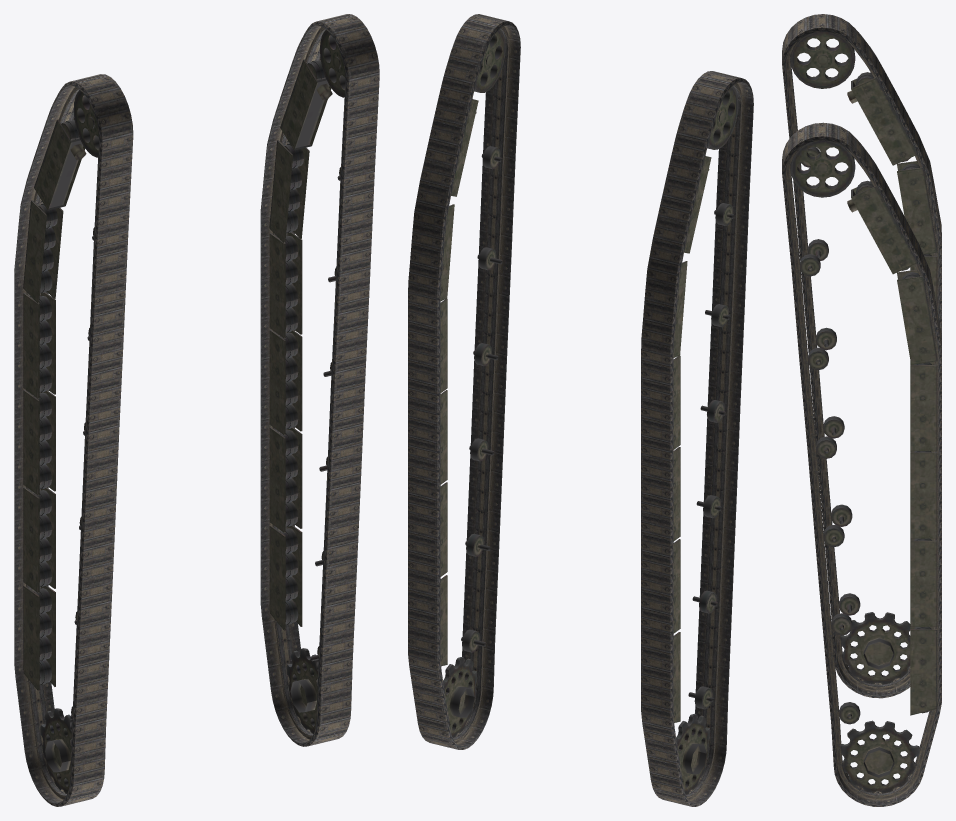
The model's file is Chassis.glb.
The picture shows the model from 3 angles, left to right: view 1: azimuth 30°, elevation 25°; view 2: azimuth 150°, elevation 25°; view 3: azimuth 270°, elevation 25°; orthographic projection. The views are drawn at different scales.
Parts seen in each view (by area): view 1: set_0_group_0, set_1_group_0, set_3_group_0, set_2_group_0; view 2: set_0_group_0, set_1_group_0, set_3_group_0, set_2_group_0; view 3: set_3_group_0, set_1_group_0, set_2_group_0, set_0_group_0.
Part boxes in pixels (box(x1,y1,x2,y2)): set_0_group_0: box(14, 74, 133, 806); set_1_group_0: box(260, 14, 379, 746); set_3_group_0: box(269, 30, 345, 733); set_2_group_0: box(23, 90, 98, 793); set_0_group_0: box(641, 71, 753, 806); set_1_group_0: box(408, 14, 520, 749); set_3_group_0: box(440, 29, 505, 737); set_2_group_0: box(673, 86, 738, 794); set_3_group_0: box(790, 140, 937, 793); set_1_group_0: box(782, 122, 941, 806); set_2_group_0: box(790, 31, 937, 684); set_0_group_0: box(782, 14, 941, 698).
Size of the model in its own units: 2.06 by 5.21 by 1.13.
4 materials, 4 textured.
